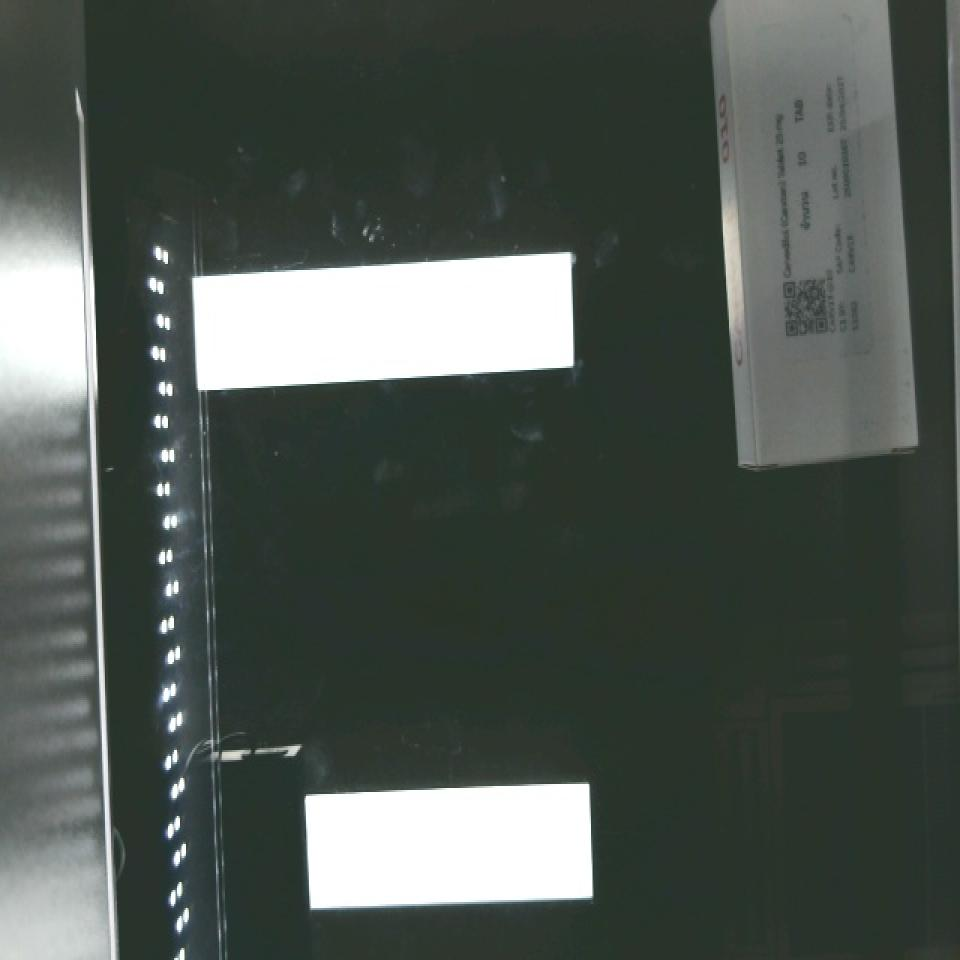medicine_box: (720, 0, 919, 460)
qr_code: (773, 269, 845, 346)
